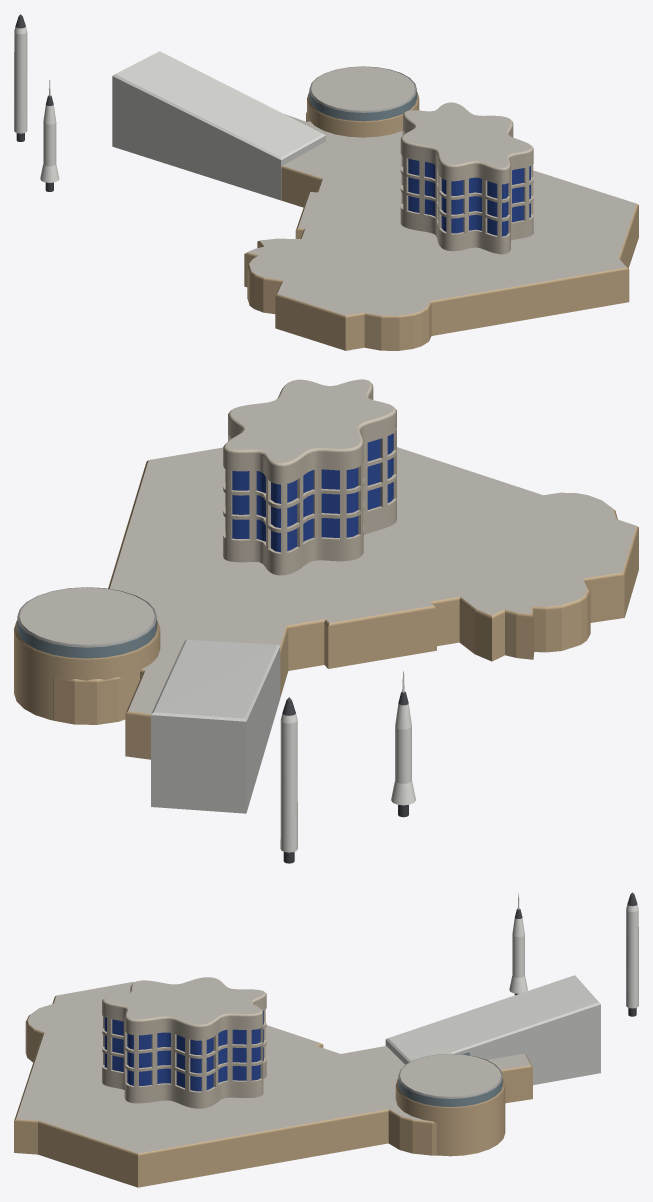
File: new-york-hall-of-science.glb
3 views of the same model, one above another, from view 1: azimuth 30°, elevation 25°; view 2: azimuth 150°, elevation 25°; view 3: azimuth 270°, elevation 25° (orthographic). The views are drawn at different scales.
Parts seen in each view (by area): view 1: New York Hall of Science; view 2: New York Hall of Science; view 3: New York Hall of Science.
Boxes of the visible parts, left/top/right/bottom form: New York Hall of Science: left=14, top=14, right=638, bottom=350; New York Hall of Science: left=14, top=379, right=638, bottom=863; New York Hall of Science: left=14, top=892, right=638, bottom=1187.
Size of the model in its own units: 111 by 33.2 by 153.
